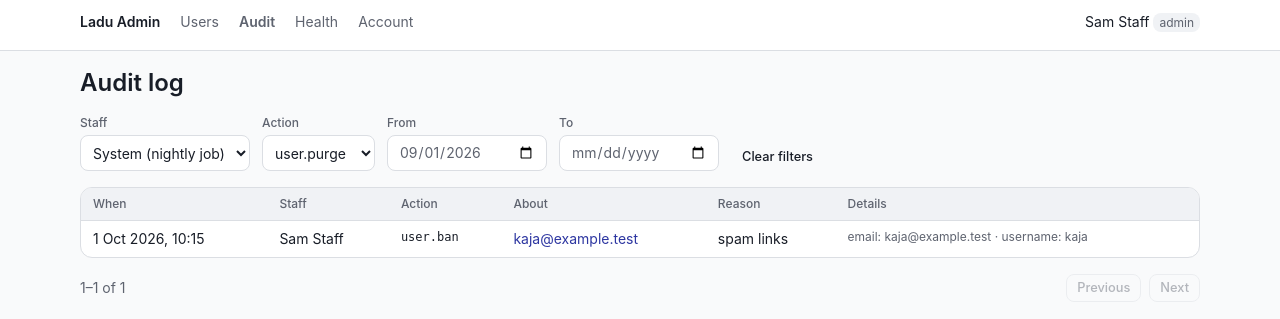
Test: the filters › starts from a shared link, and clears everything with one button
Expected: the date field labelled "From" holds "2026-09-01", [387, 135, 547, 171]
Click the button "Clear filters".
click(778, 157)  # box [731, 143, 824, 171]
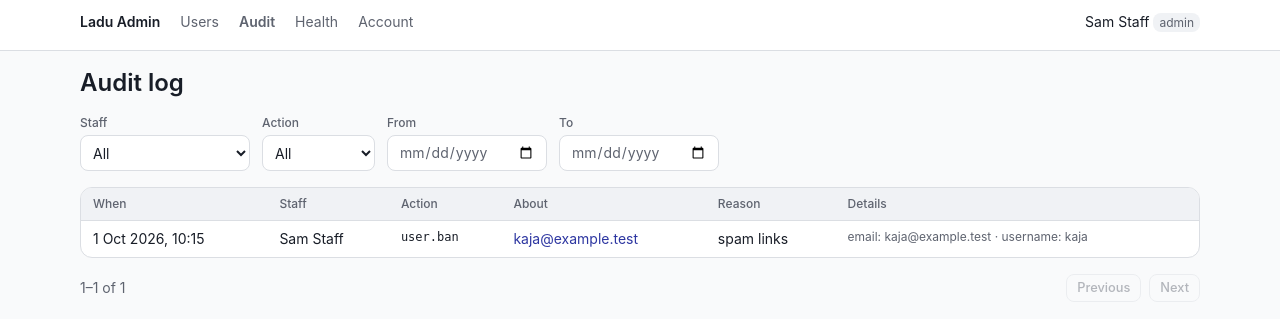
Expected: the button "Clear filters" is gone
